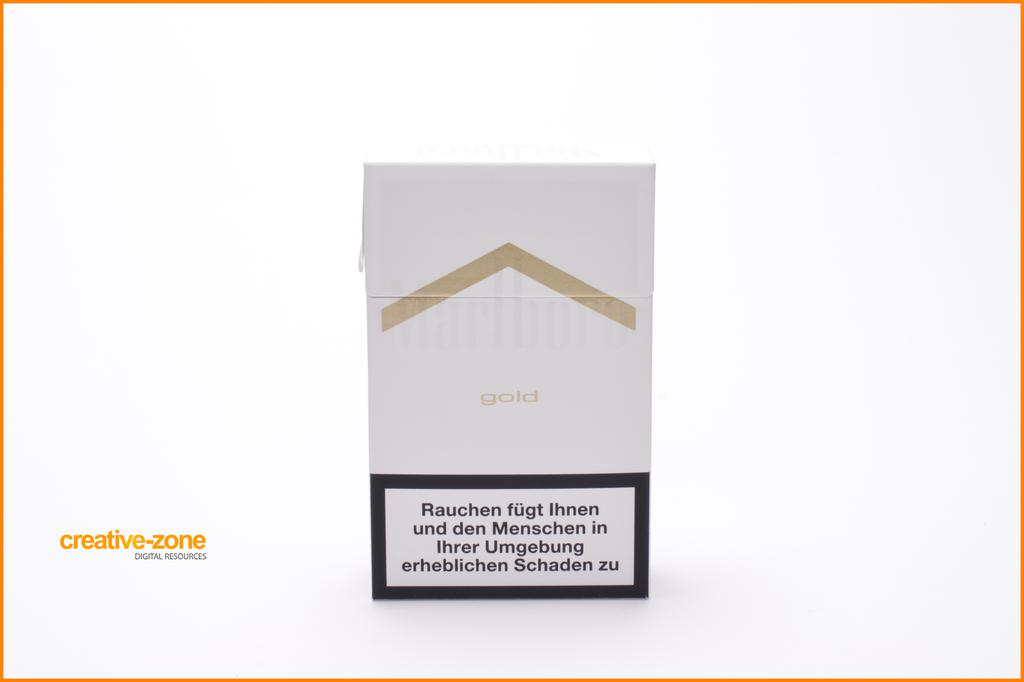marlboro_gold: (367, 163, 648, 601)
